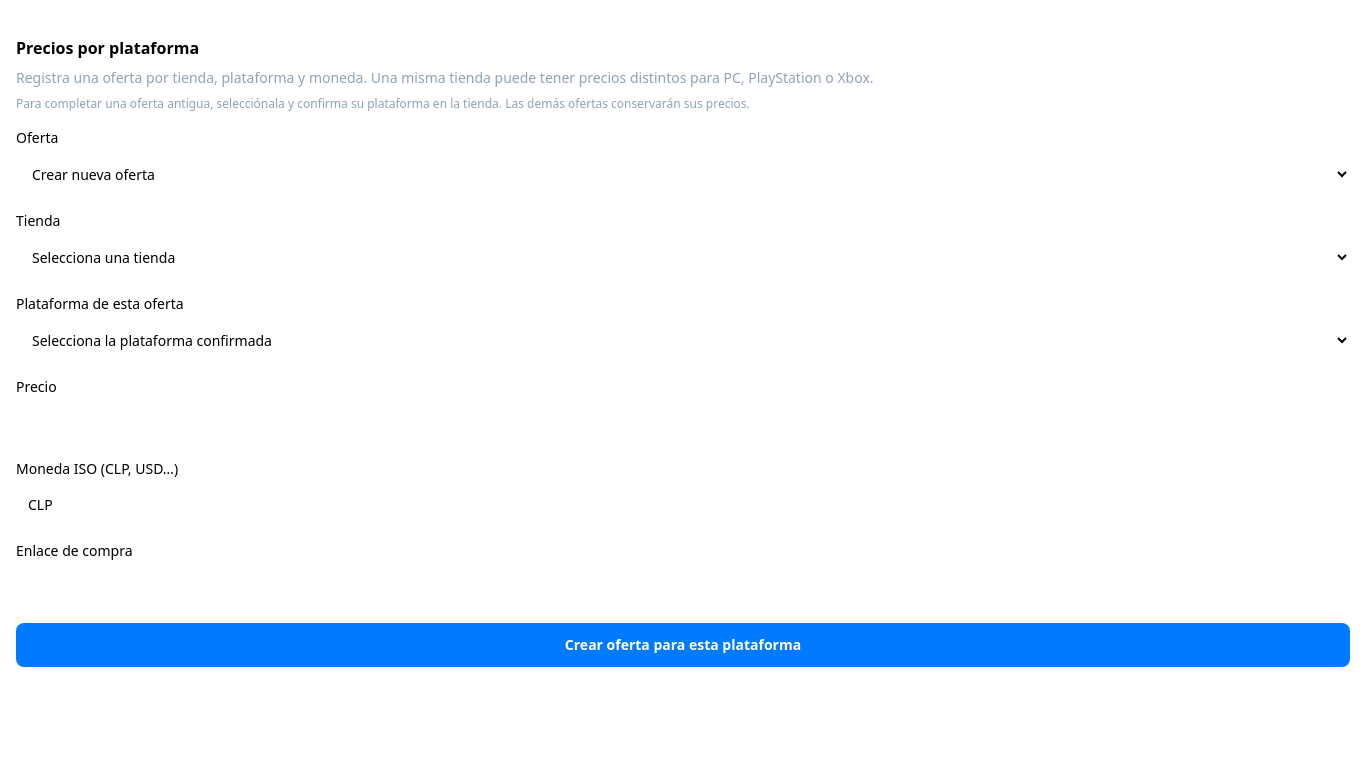
Compatibilidad de plataformas › advierte al usar una tienda sin configurar y no inventa su relación
This screenshot has width=1366, height=768.
Select "Tienda antigua sintética" in the dropdown labelled "Tienda": coordinates (683, 258) [16,237,1350,278]
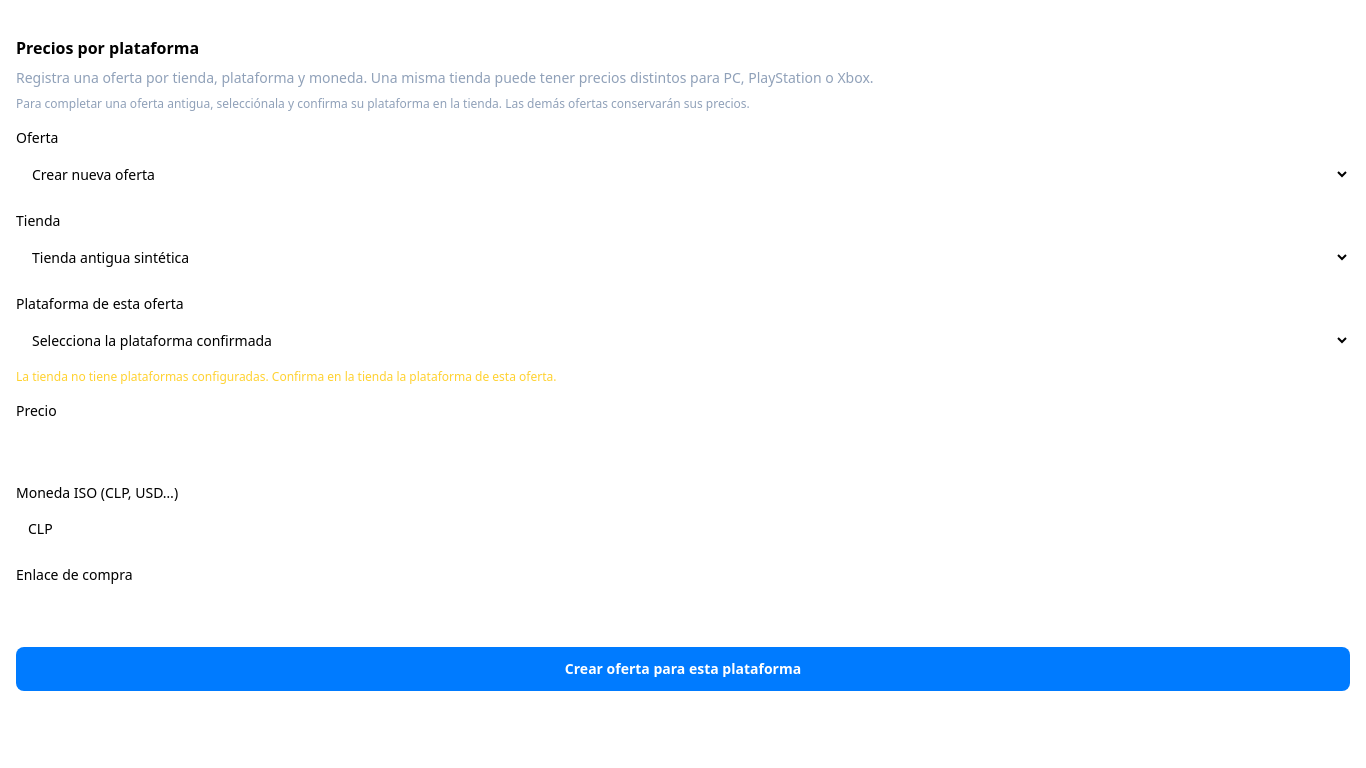
Expected: the dropdown labelled "Plataforma de esta oferta" shows "Selecciona la plataforma confirmada", [16,320,1350,361]
Expected: the text "La tienda no tiene plataformas configuradas" is shown, [16,368,556,385]
